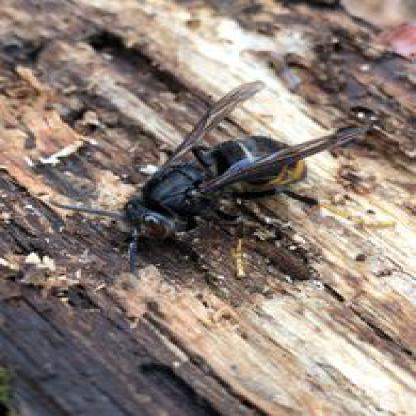Asian Hornet: (70, 82, 376, 266)
